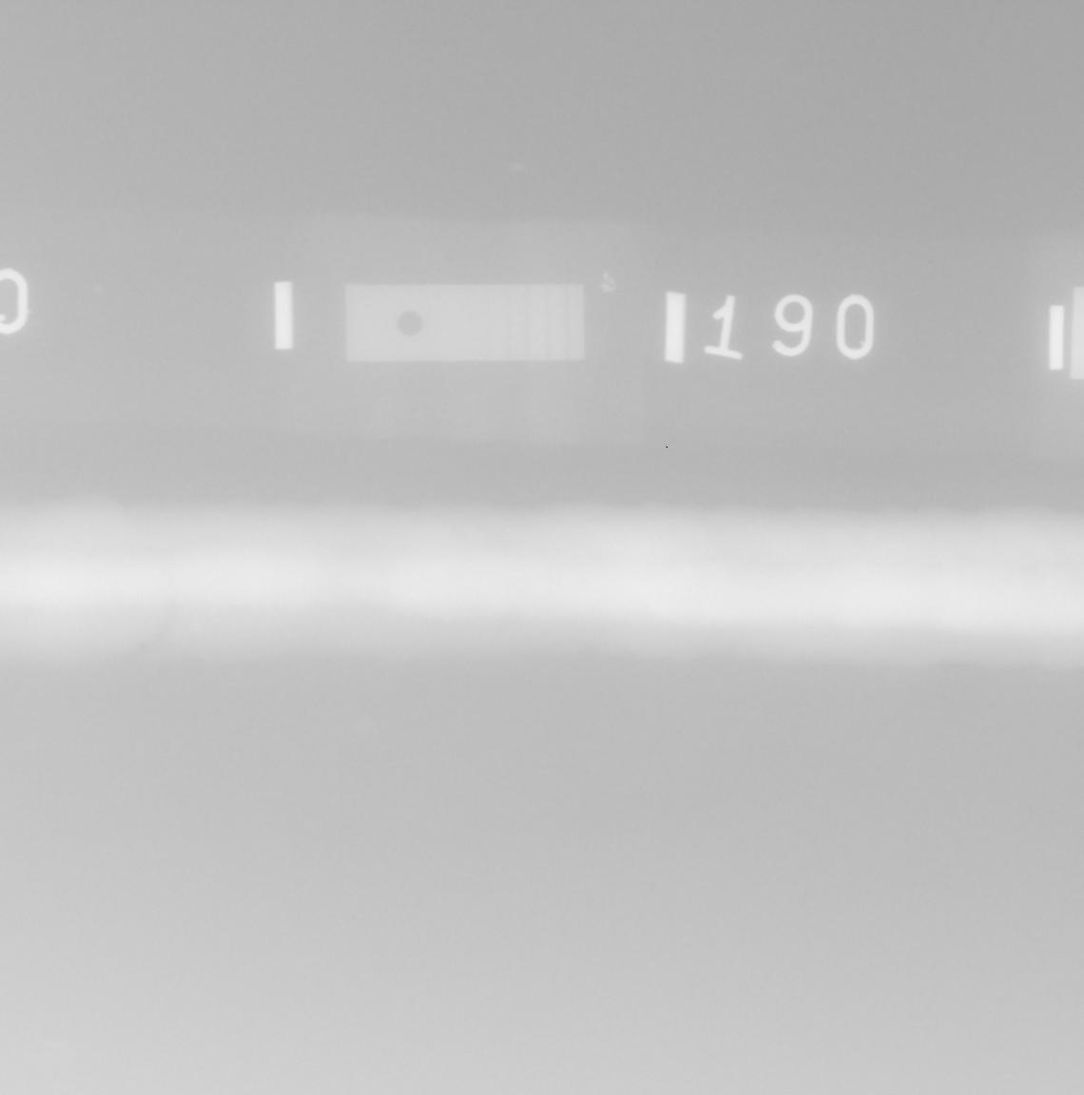Reference Standard 1: (345, 284, 585, 361)
